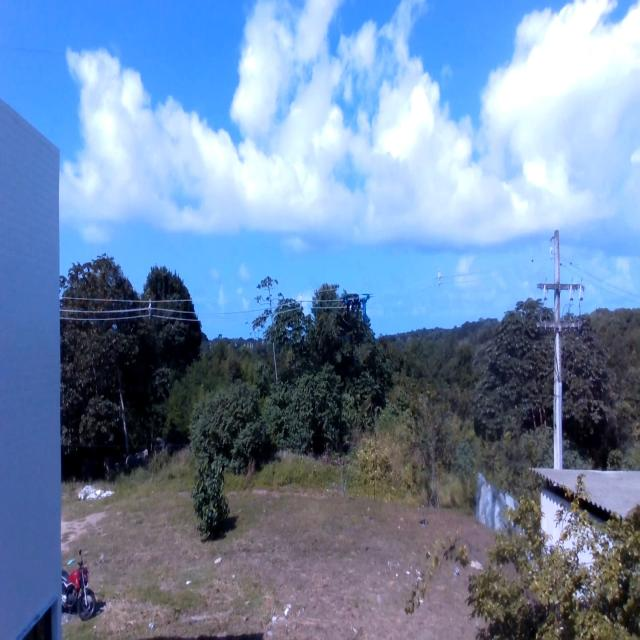-uav-: (344, 289, 372, 330)
